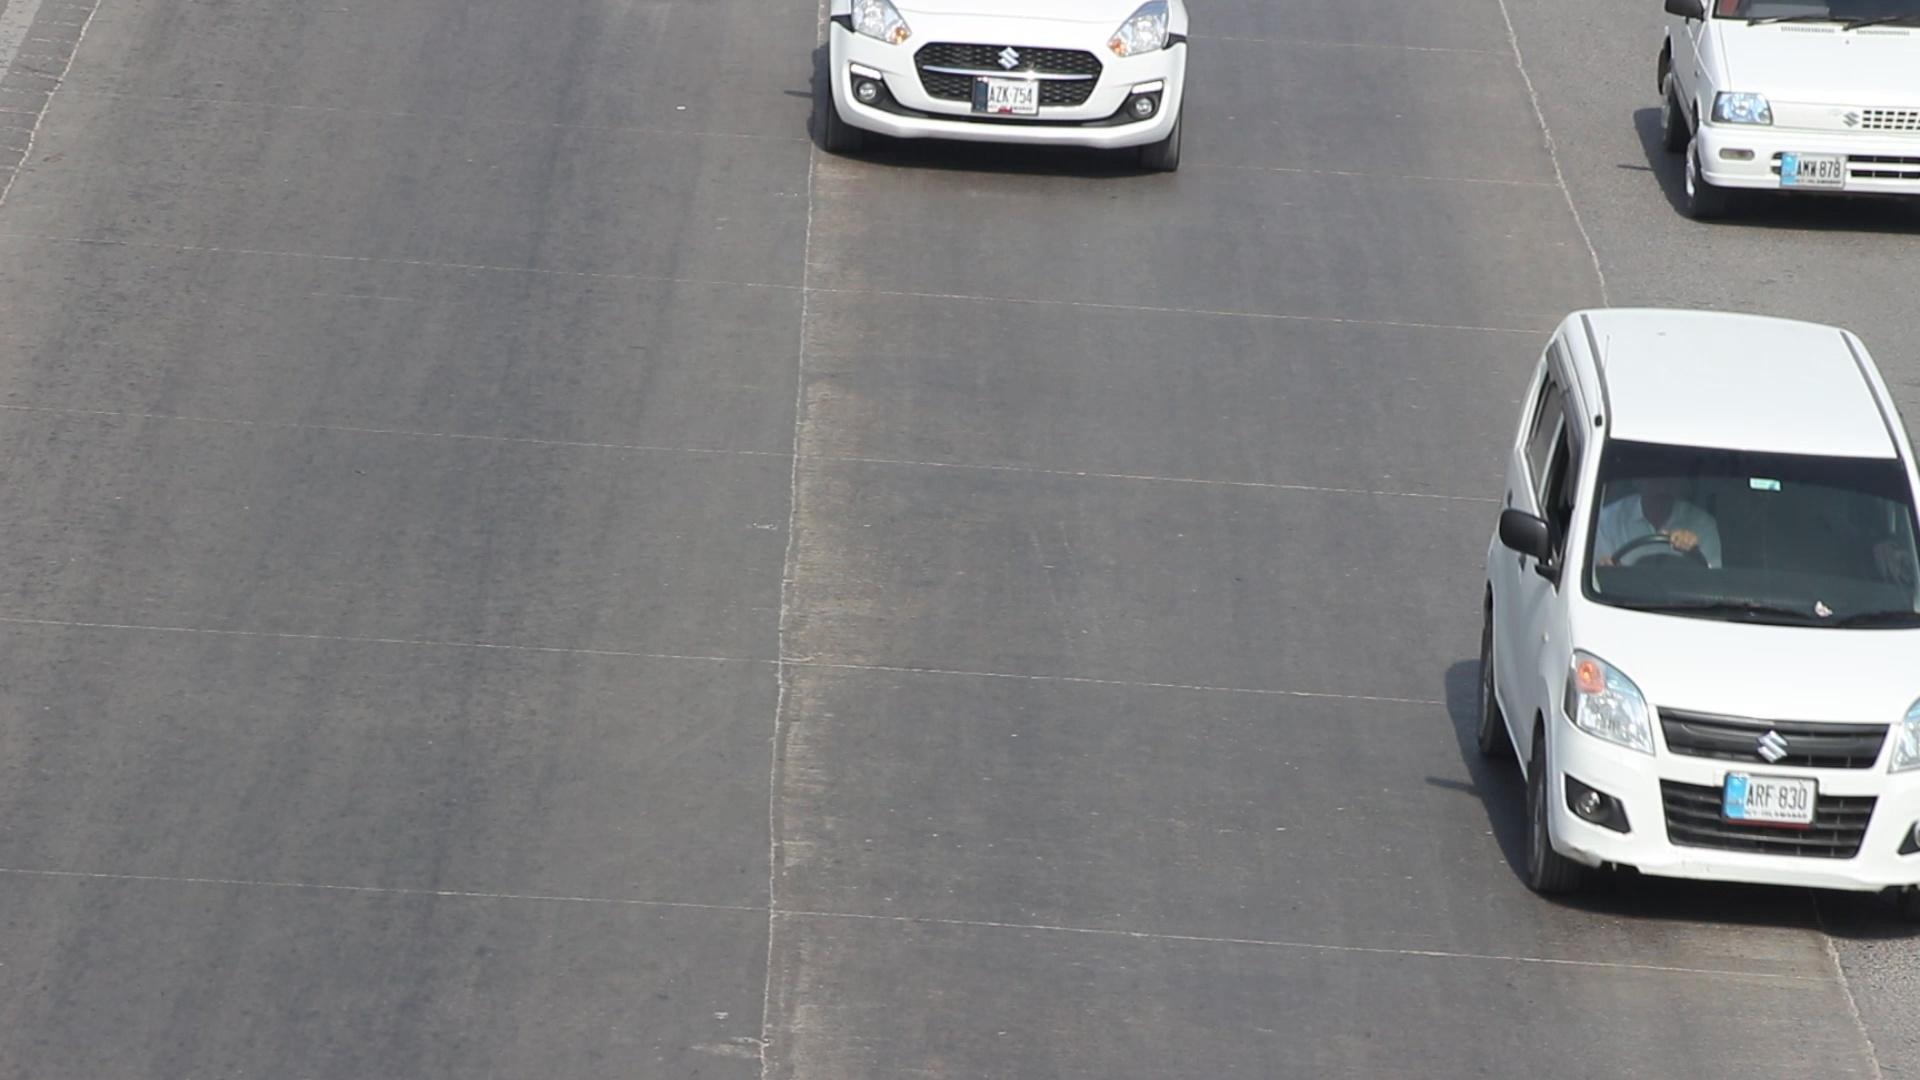windshield: (1571, 406, 1920, 644)
